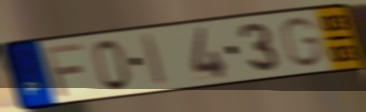0: (90, 37, 134, 93)
3: (239, 21, 282, 73)
4: (189, 25, 229, 81)
F: (41, 41, 86, 99)
G: (278, 15, 326, 70)
I: (139, 31, 170, 88)
